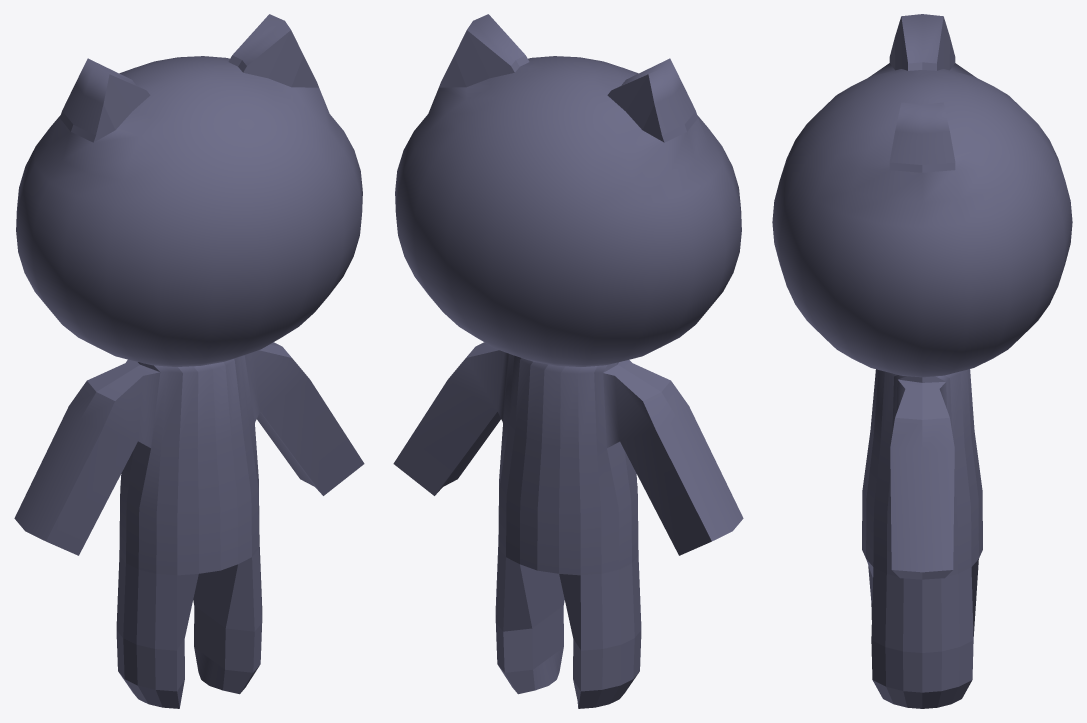
Rendered from CatProxy.fbx.
3 renders of one model, left to right at view 1: azimuth 30°, elevation 25°; view 2: azimuth 150°, elevation 25°; view 3: azimuth 270°, elevation 25°, orthographic. The views are drawn at different scales.
Parts seen in each view (by area): view 1: pSphere1; view 2: pSphere1; view 3: pSphere1.
Boxes of the visible parts, box(x1,y1,x2,y2) form: pSphere1: box(14, 14, 364, 708); pSphere1: box(393, 14, 743, 708); pSphere1: box(772, 14, 1072, 708).
Size of the model in its own units: 0.6509 by 1.22 by 0.5291.
